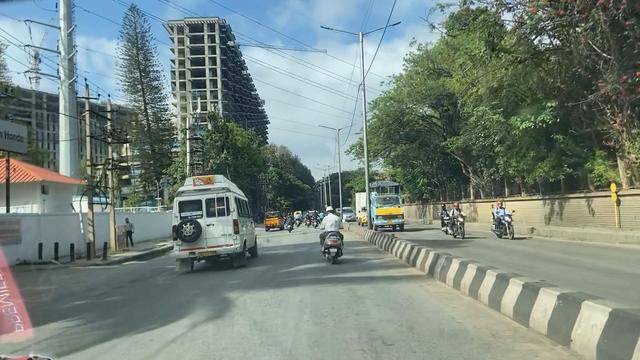HMV: (158, 177, 264, 270)
LMV: (320, 208, 348, 260)
